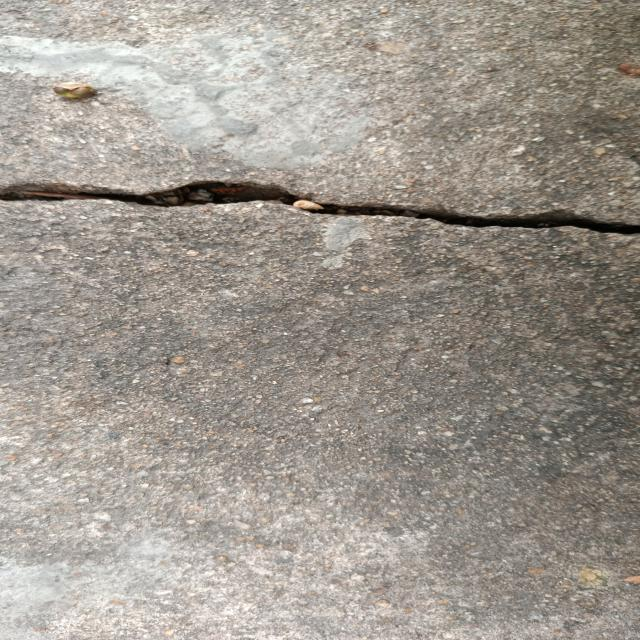horizontal crack: (0, 181, 639, 233)
